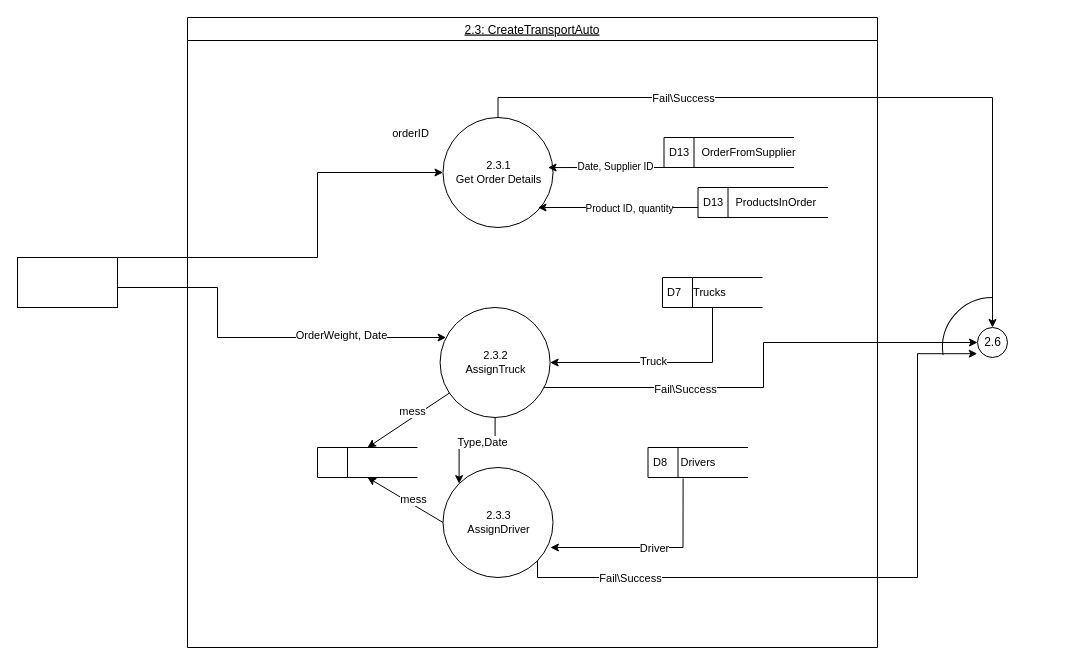
This 1081x665 diagram has some shape labels left out. The centre of each missing label's shape, as x and y in pixels:
"AND" goes at point (992, 347).
"D0 Messages" goes at point (367, 462).
"E4 Logistics Manager" goes at point (67, 282).
